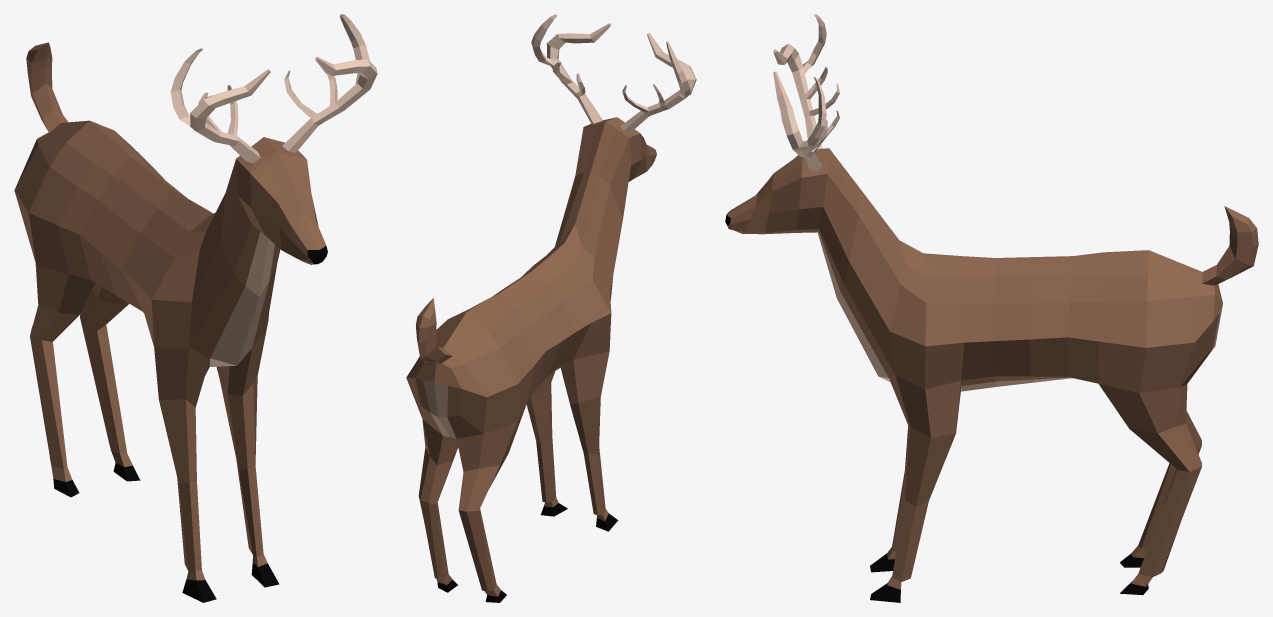
Rendered from Deer_1.glb.
3 views of the same model, side by side, from view 1: azimuth 30°, elevation 25°; view 2: azimuth 150°, elevation 25°; view 3: azimuth 270°, elevation 25° (orthographic). The views are drawn at different scales.
Visible parts, largest first — view 1: 05deerFinal; view 2: 05deerFinal; view 3: 05deerFinal.
Boxes of the visible parts, left/top/right/bottom form: 05deerFinal: left=14, top=14, right=377, bottom=602; 05deerFinal: left=406, top=14, right=696, bottom=602; 05deerFinal: left=725, top=14, right=1258, bottom=602.
Size of the model in its own units: 0.7144 by 2.03 by 1.83.
Materials: 1 (1 with a texture image).
